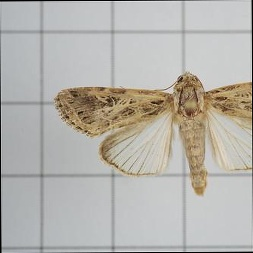Spodoptera litura: (53, 70, 253, 198)
